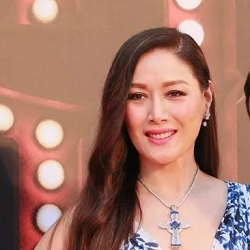unmask: (117, 66, 208, 165)
